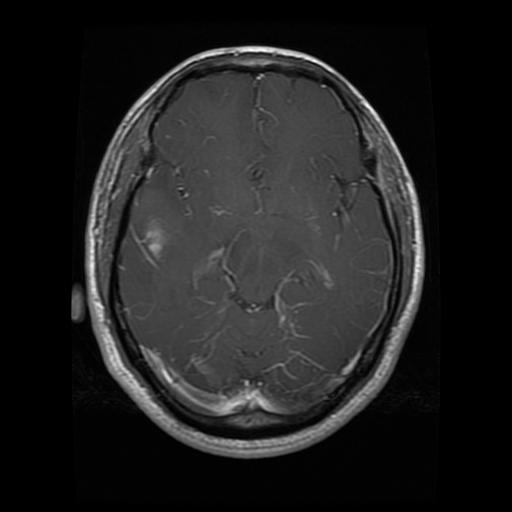Gliomia_tumour: (129, 212, 171, 269)
